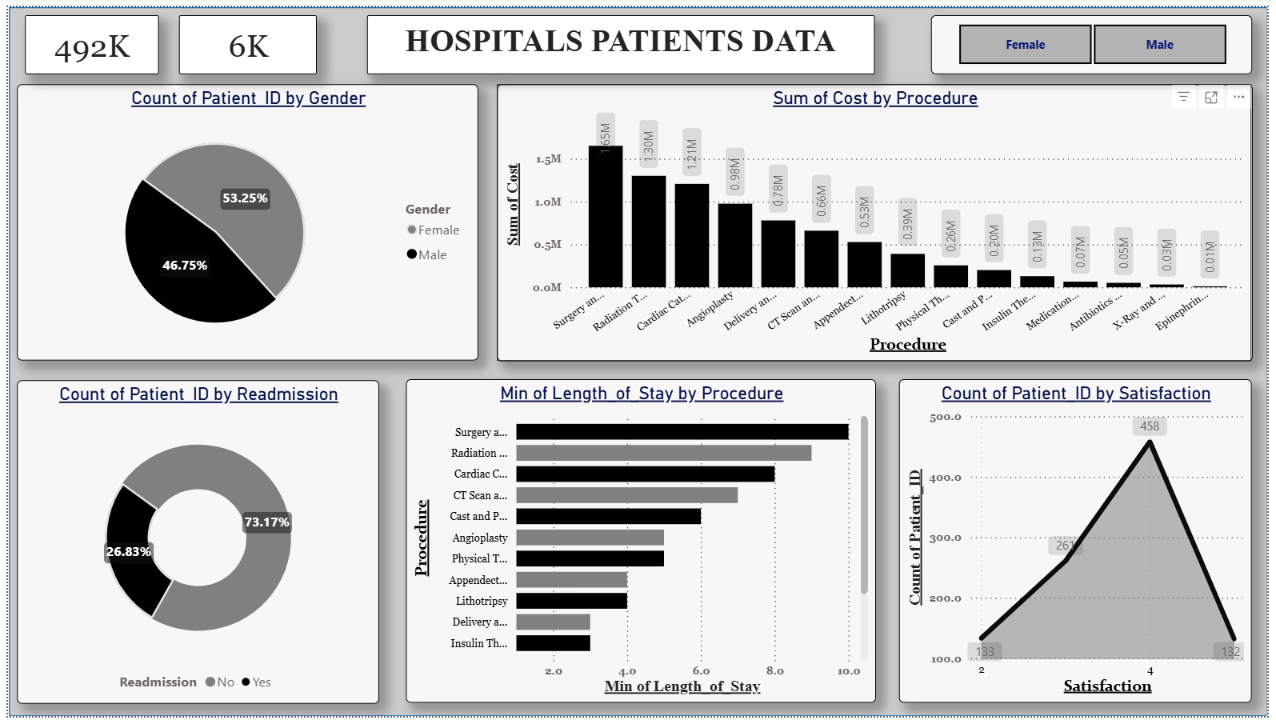

The dashboard page shown, as its layout file describes it:
{"tool":"powerbi","page":{"name":"Page 1","canvas":[1280,720],"ordinal":0},"visuals":[{"type":"shape","box":[1.1,0,1279.3,720.7],"z":0},{"type":"clusteredColumnChart","fields":{"Y":["Sum(hospital_data_analysis.Cost)"],"Category":["hospital_data_analysis.Procedure"]},"box":[496.6,78.2,767.8,281.6],"z":1000},{"type":"textbox","box":[364.4,8,516.1,59.8],"z":2000},{"type":"pieChart","fields":{"Category":["hospital_data_analysis.Gender"],"Y":["CountNonNull(hospital_data_analysis.Patient_ID)"]},"box":[9.5,78.6,469,281],"z":3000},{"type":"donutChart","fields":{"Category":["hospital_data_analysis.Readmission"],"Y":["CountNonNull(hospital_data_analysis.Patient_ID)"]},"box":[9.5,378.6,367.9,328.6],"z":4000},{"type":"clusteredBarChart","fields":{"Category":["hospital_data_analysis.Procedure"],"Y":["Min(hospital_data_analysis.Length_of_Stay)"]},"box":[404.2,378.3,477.6,328.6],"z":5000},{"type":"lineChart","fields":{"Y":["Count(hospital_data_analysis.Patient_ID)"],"Category":["hospital_data_analysis.Satisfaction"]},"box":[905.7,378.2,358.6,328.7],"z":6000},{"type":"slicer","fields":{"Values":["hospital_data_analysis.Gender"]},"box":[937.9,8,326.4,59.8],"z":7000},{"type":"card","fields":{"Values":["Sum(hospital_data_analysis.Patient_ID)"]},"box":[17.2,8,135.6,59.8],"z":8000},{"type":"card","fields":{"Values":["Median(hospital_data_analysis.Cost)"]},"box":[173.6,8,140.2,59.8],"z":9000}]}

Visuals, with their boxes in screenshot pixels (x1, y1, x2, y2), scaled from the page's 1280x720 canvas onto the 1276x725 screenshot:
shape: <box>1,0,1275,724</box>
clusteredColumnChart - Sum(hospital_data_analysis.Cost) x hospital_data_analysis.Procedure: <box>495,79,1260,362</box>
textbox: <box>363,8,878,68</box>
pieChart - hospital_data_analysis.Gender x CountNonNull(hospital_data_analysis.Patient_ID): <box>9,79,477,362</box>
donutChart - hospital_data_analysis.Readmission x CountNonNull(hospital_data_analysis.Patient_ID): <box>9,381,376,712</box>
clusteredBarChart - hospital_data_analysis.Procedure x Min(hospital_data_analysis.Length_of_Stay): <box>403,381,879,712</box>
lineChart - Count(hospital_data_analysis.Patient_ID) x hospital_data_analysis.Satisfaction: <box>903,381,1260,712</box>
slicer - hospital_data_analysis.Gender: <box>935,8,1260,68</box>
card - Sum(hospital_data_analysis.Patient_ID): <box>17,8,152,68</box>
card - Median(hospital_data_analysis.Cost): <box>173,8,313,68</box>
